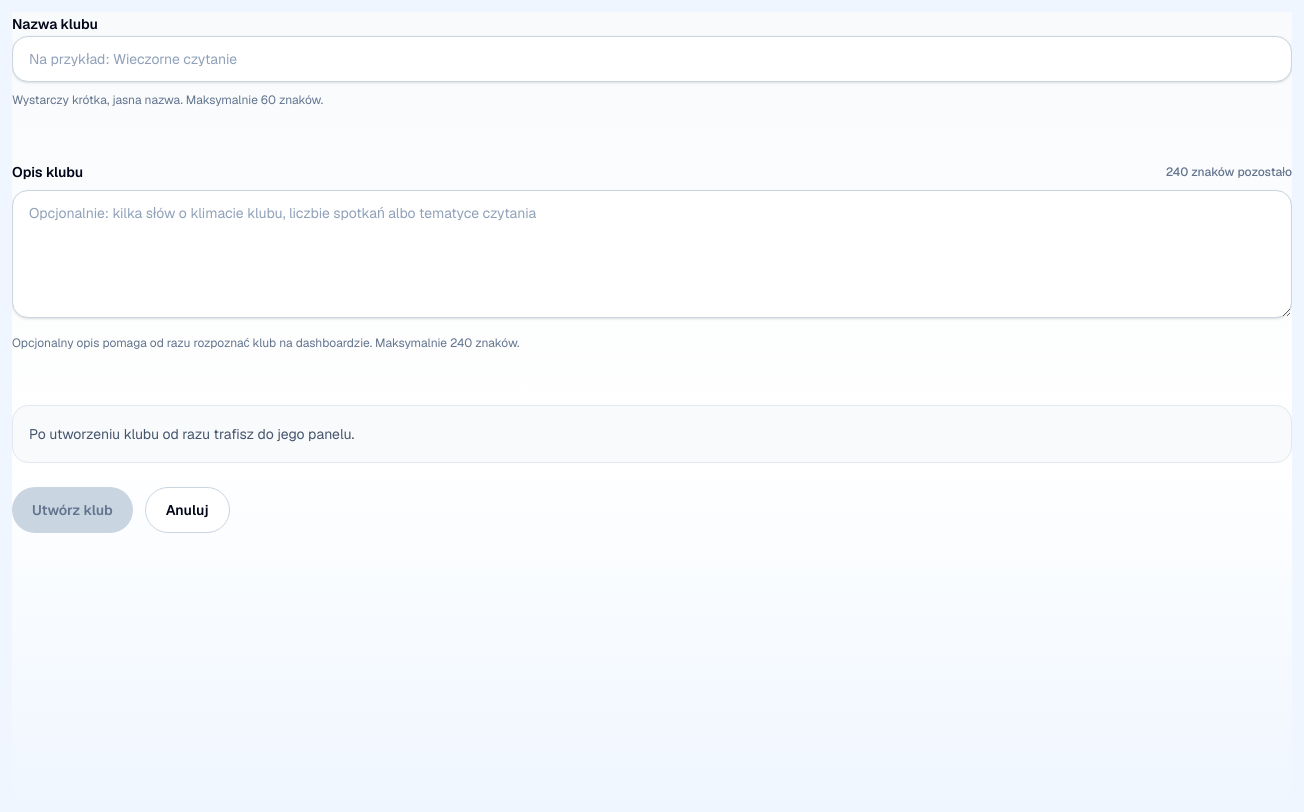
Test case: CreateClubForm › blocks submit until the fields are valid and shows inline validation
Expected: the button "Utwórz klub" is disabled, [12, 487, 133, 533]
Type "ab" into the field labelled "Nazwa klubu" at point(652, 59), box [12, 36, 1292, 82]
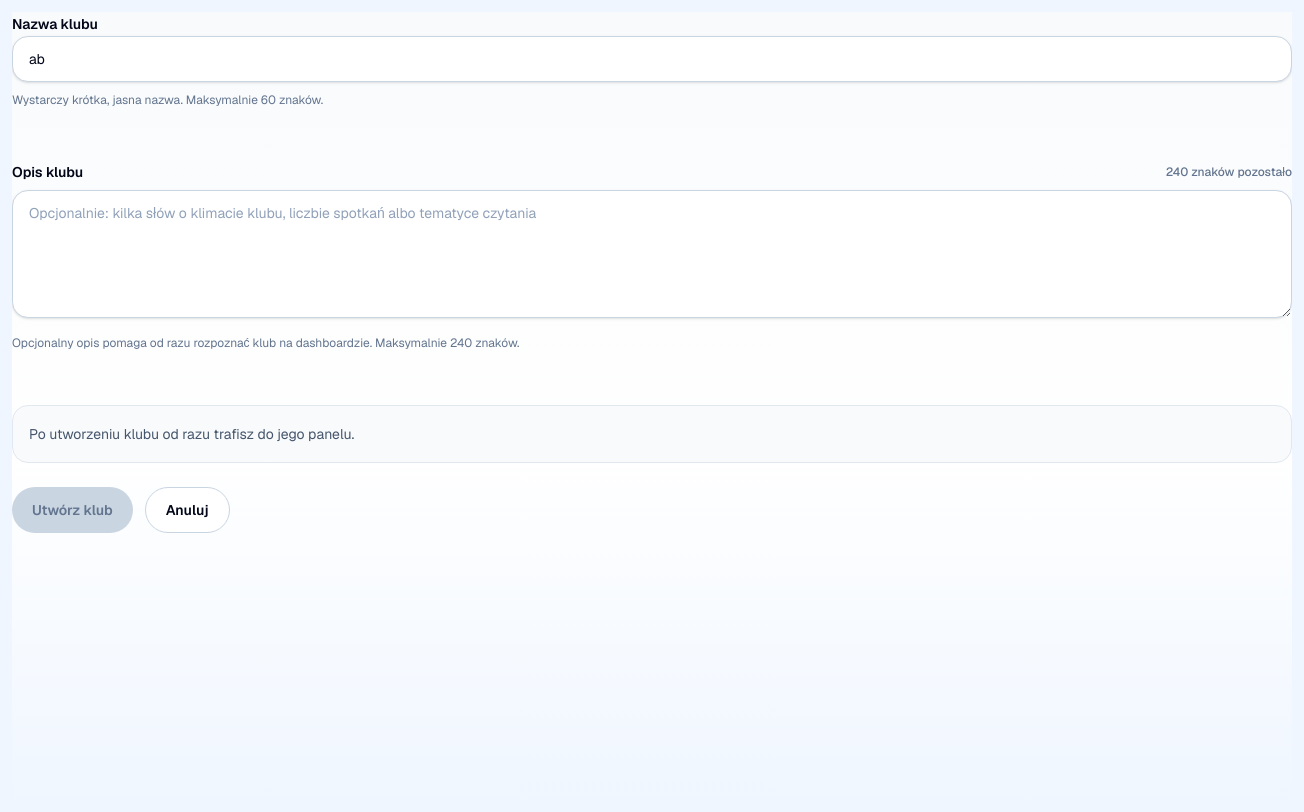
Leave the field labelled "Nazwa klubu", box [12, 36, 1292, 82]
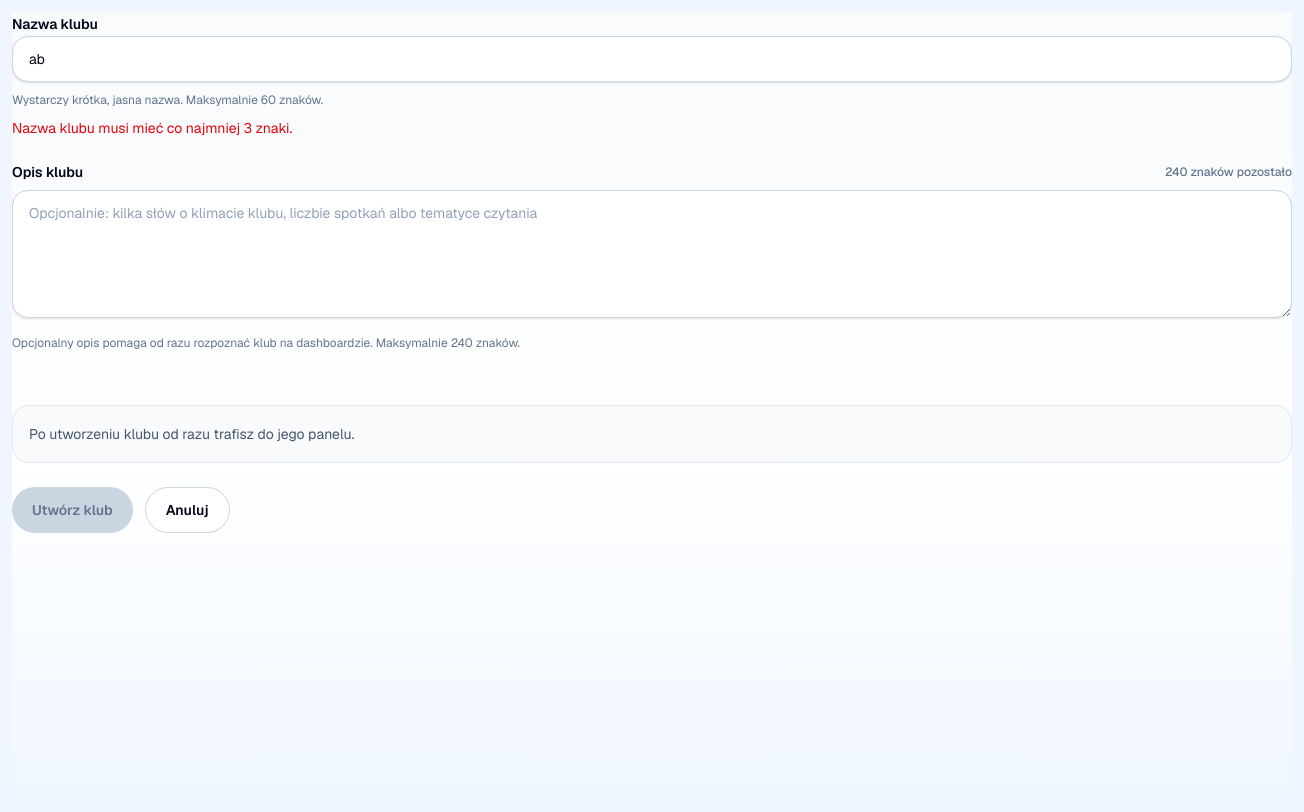
Expected: the button "Utwórz klub" is disabled, [12, 487, 133, 533]
Now the text "Nazwa klubu musi mieć co najmniej 3 znaki." is shown, box [12, 119, 292, 137]
